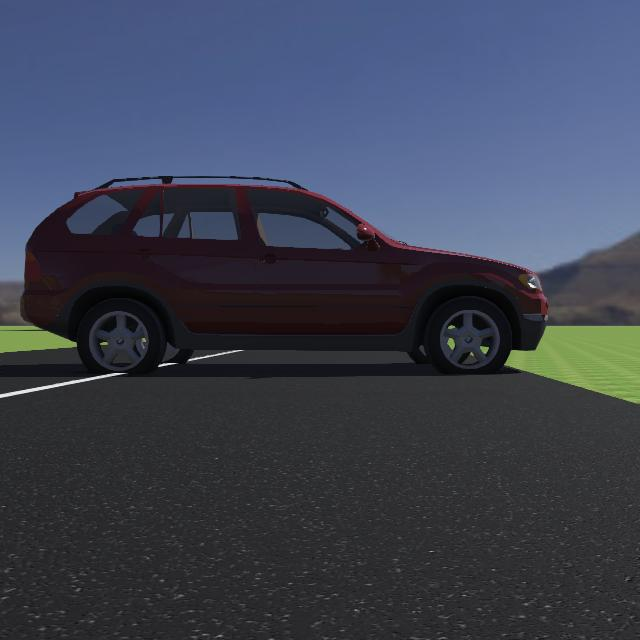car: (19, 168, 562, 377)
